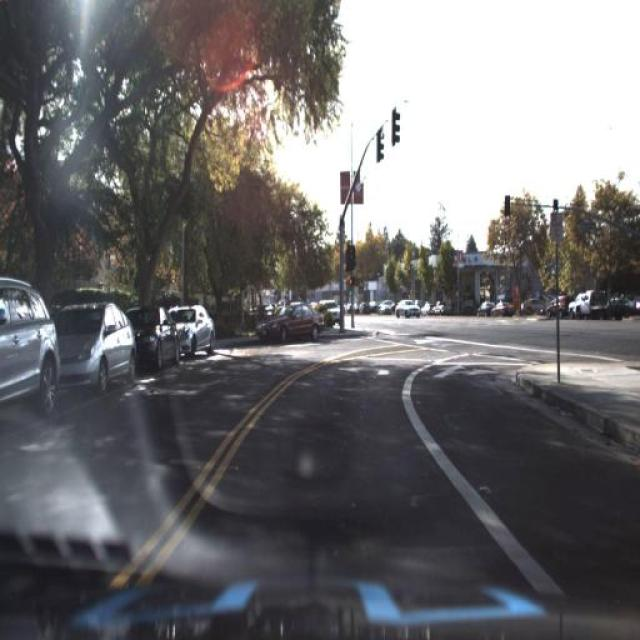car: (0, 276, 64, 425), (62, 298, 138, 402), (250, 292, 325, 348), (132, 300, 177, 376), (177, 298, 219, 362), (568, 287, 622, 323), (515, 288, 543, 316), (318, 293, 344, 322), (490, 297, 518, 323), (390, 298, 420, 322), (564, 282, 580, 318), (474, 297, 494, 323), (612, 286, 636, 306)
